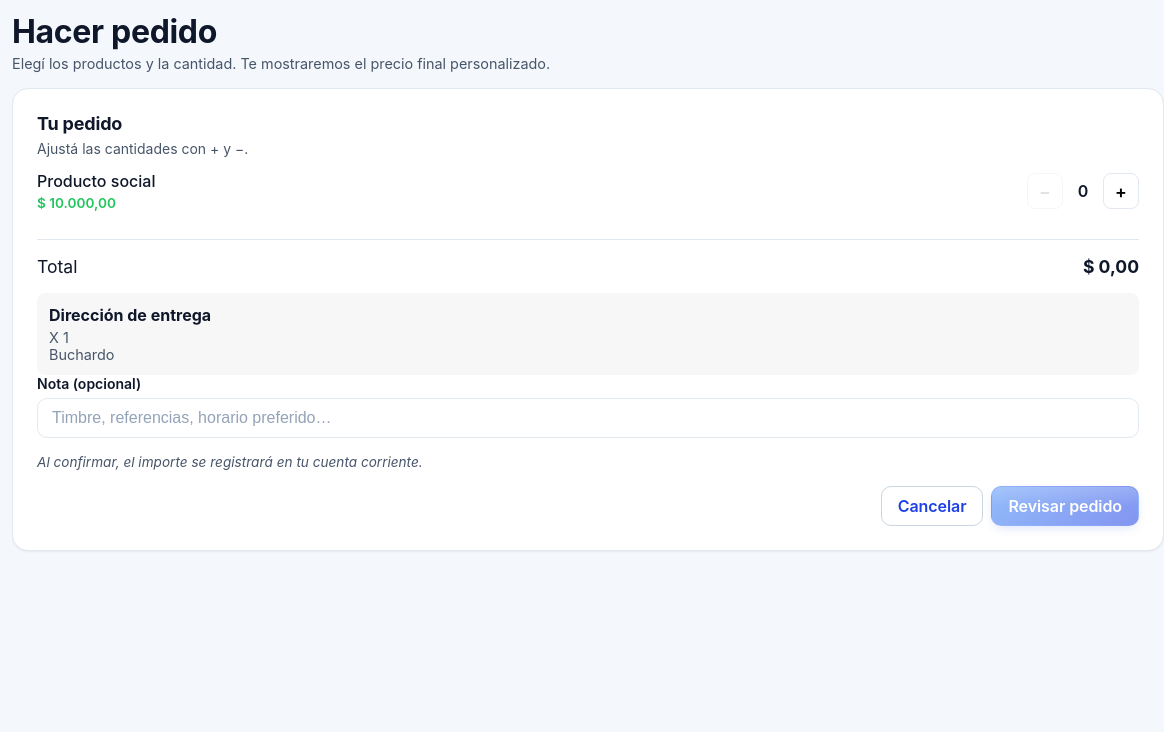
Test case: Smoke — MuniFront Ciudadano Nuevo Pedido › muestra "no generará deuda" cuando el total es $0 (AYUDA_SOCIAL)
This screenshot has width=1164, height=732.
expect the text "Producto social" is shown: met, box top-left (37, 171), bottom-right (156, 191)
Click the button named "Agregar Producto social": (1121, 191) top-left (1103, 173), bottom-right (1139, 209)
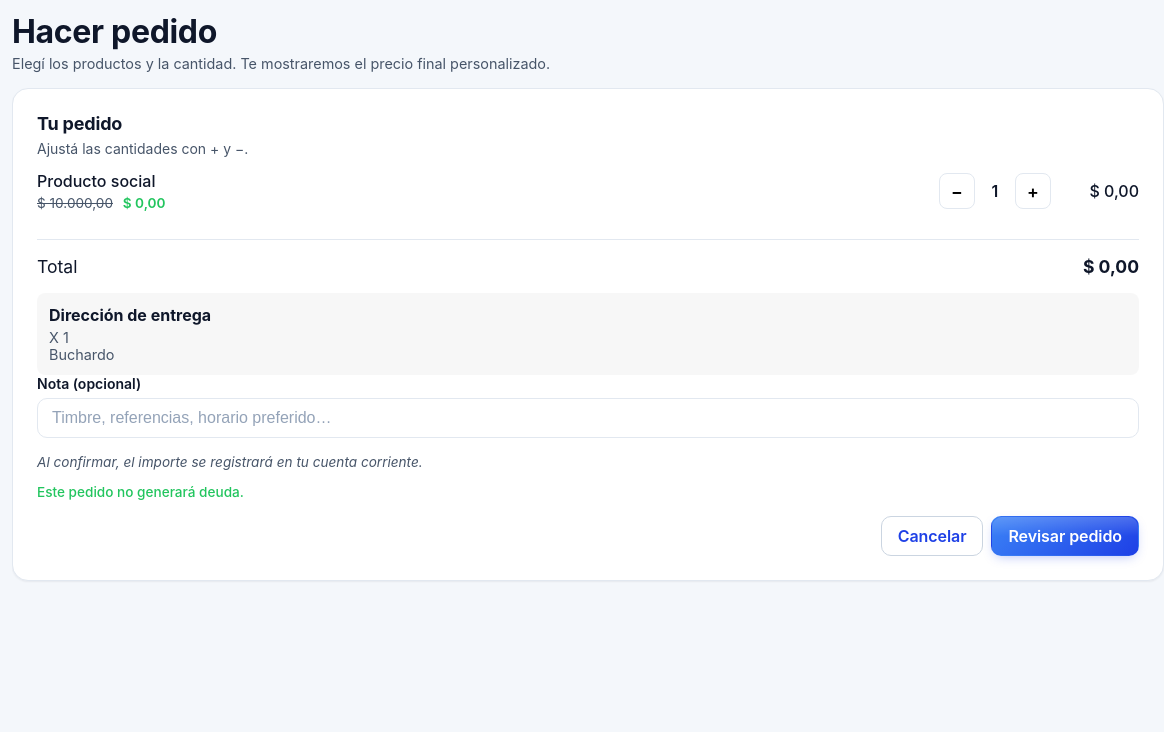
expect the text "Este pedido no generará deuda." is shown: met, box top-left (37, 484), bottom-right (244, 500)
